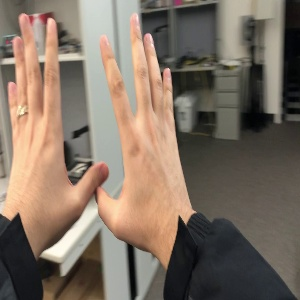hand: (95, 12, 193, 241), (8, 14, 109, 214)
